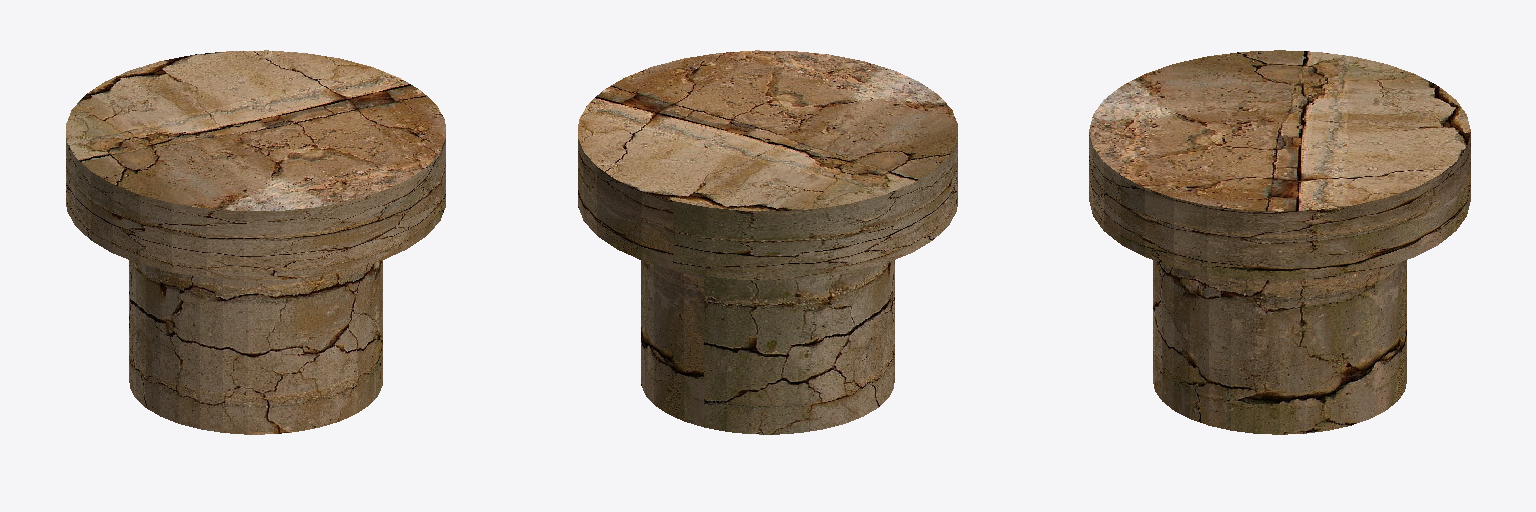
3 renders of one model, left to right at view 1: azimuth 30°, elevation 25°; view 2: azimuth 150°, elevation 25°; view 3: azimuth 270°, elevation 25°, orthographic.
Visible parts, largest first — view 1: 円柱.001, 円柱; view 2: 円柱.001, 円柱; view 3: 円柱.001, 円柱.
Boxes of the visible parts, x1=… form: 円柱.001: x1=66, y1=50, x2=445, y2=280; 円柱: x1=129, y1=260, x2=382, y2=434; 円柱.001: x1=578, y1=50, x2=957, y2=280; 円柱: x1=641, y1=260, x2=894, y2=434; 円柱.001: x1=1089, y1=50, x2=1470, y2=280; 円柱: x1=1153, y1=260, x2=1406, y2=434.
Bounding box in the file's own units: 3 × 2.17 × 3.
Materials: 2 (1 with a texture image).